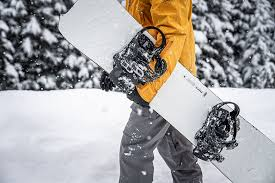snowboard: (57, 1, 275, 183)
